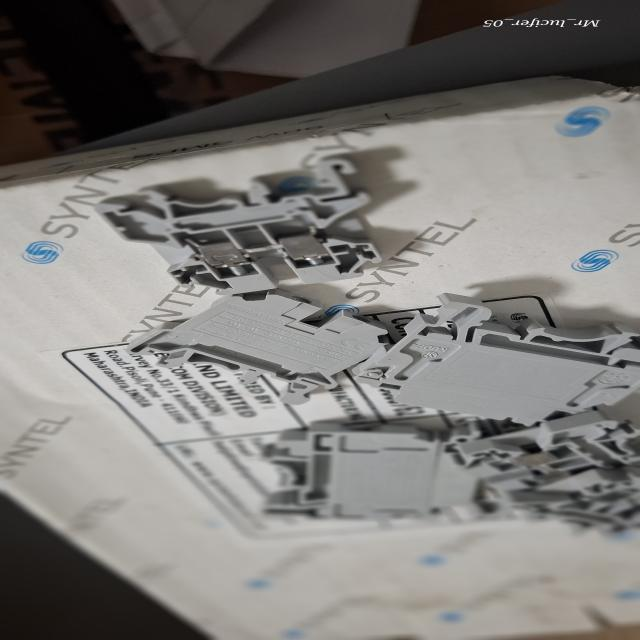Inverted: (145, 294, 435, 408)
Pass: (82, 160, 410, 308)
